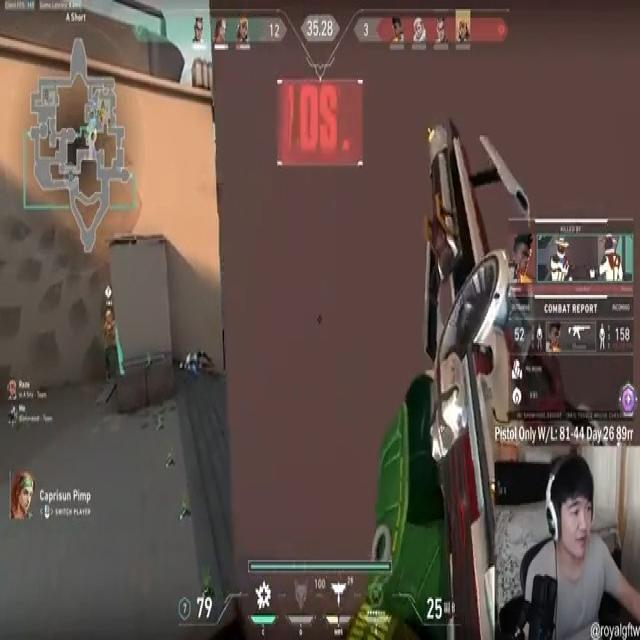ally: (101, 302, 127, 385)
